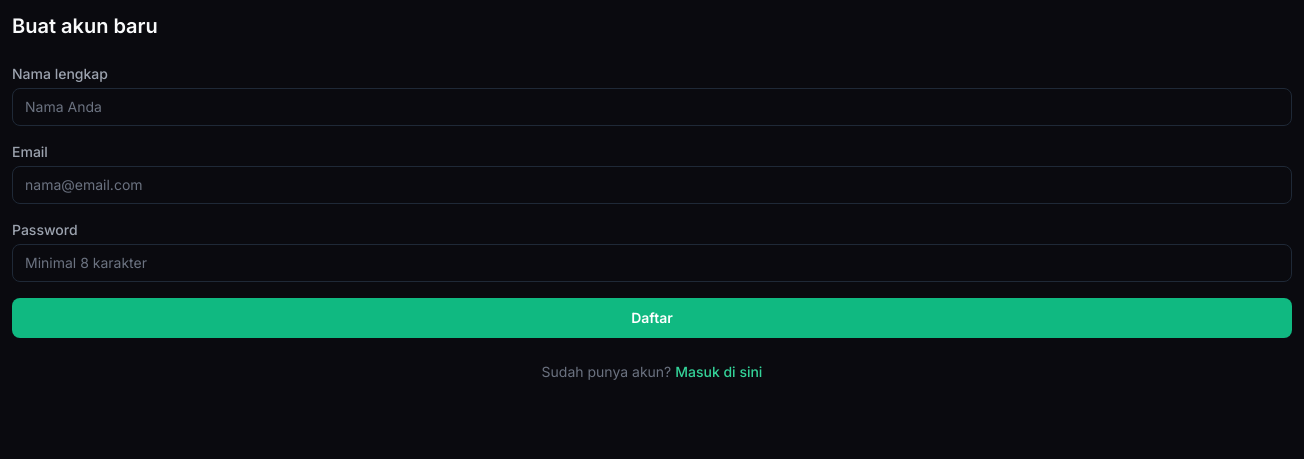
RegisterPage › shows API error message on failed registration
Step 1. Type "Test User" into the field labelled "Nama lengkap" → (652, 107), box [12, 88, 1292, 126]
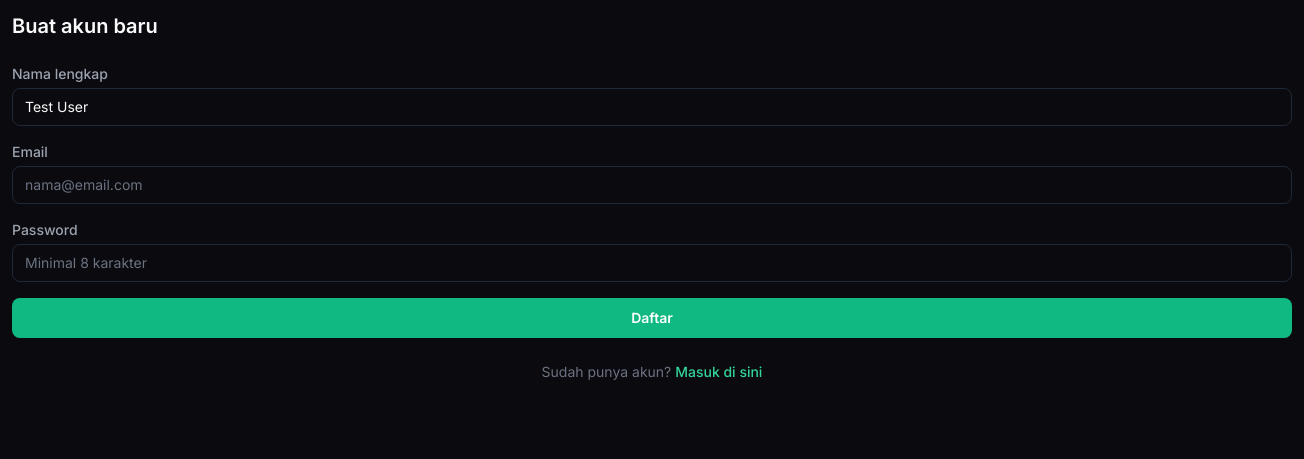
Step 2. Type "existing@example.com" into the field labelled "Email" → (652, 185), box [12, 166, 1292, 204]
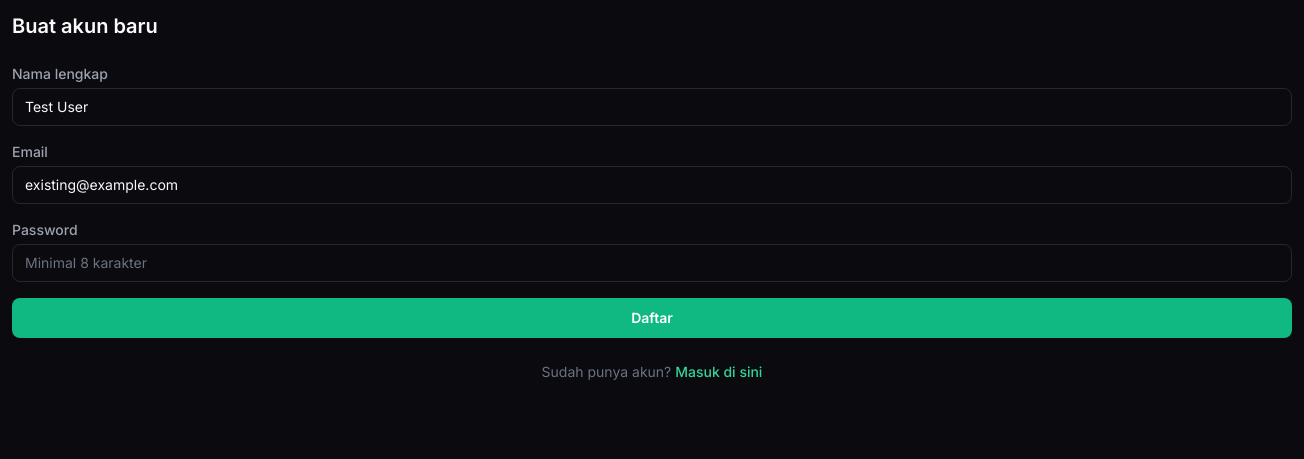
Step 3. Type "password123" into the password field labelled "Password" → (652, 263), box [12, 244, 1292, 282]
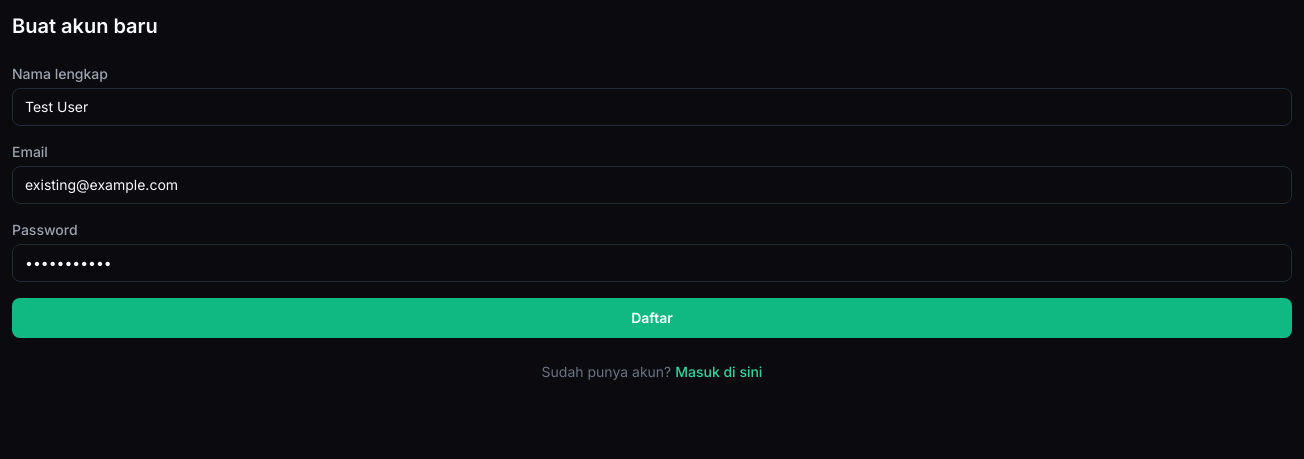
Step 4. Click the button "Daftar" → click(652, 318), box [12, 298, 1292, 338]
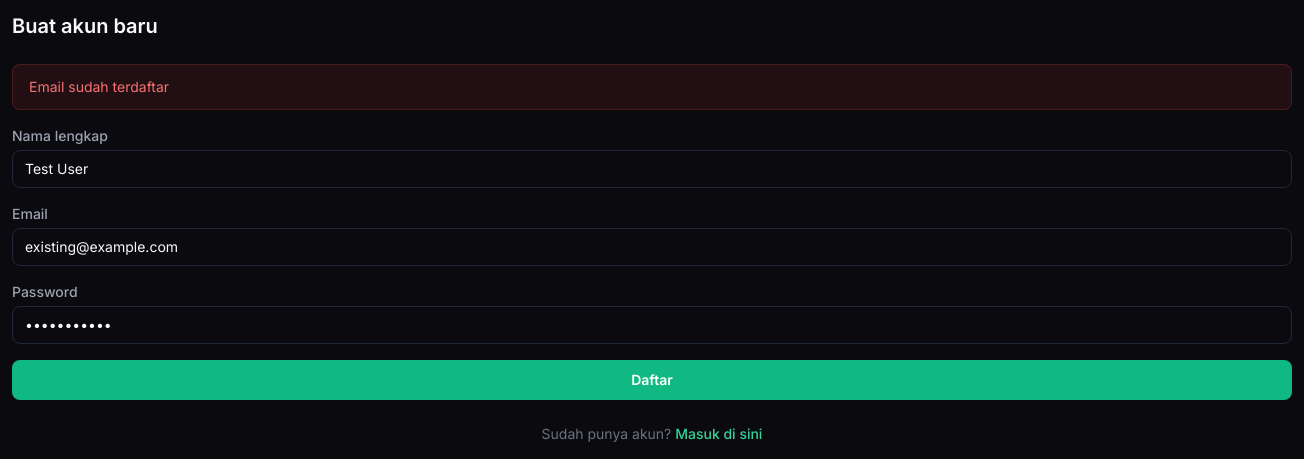
Check: the text "Email sudah terdaftar" is shown, box [12, 64, 1292, 110]
